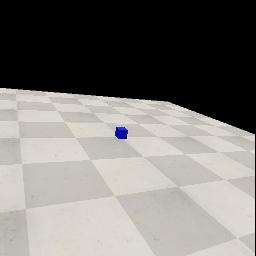box: (115, 127, 128, 139)
